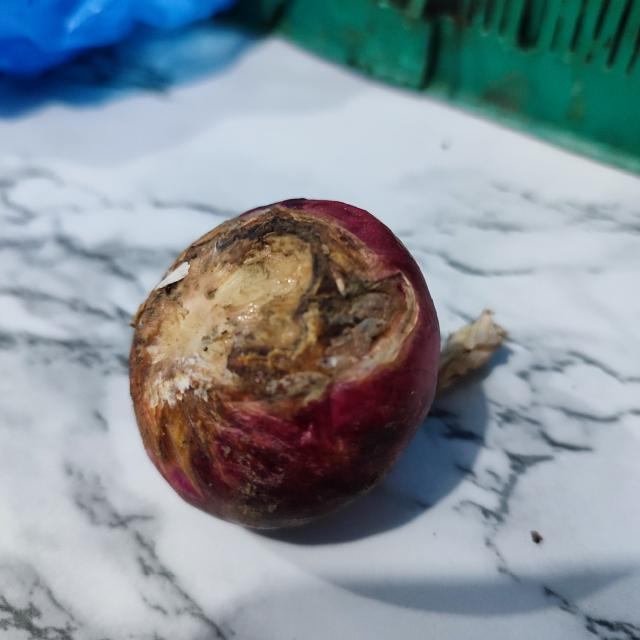Onion: (130, 200, 440, 530)
